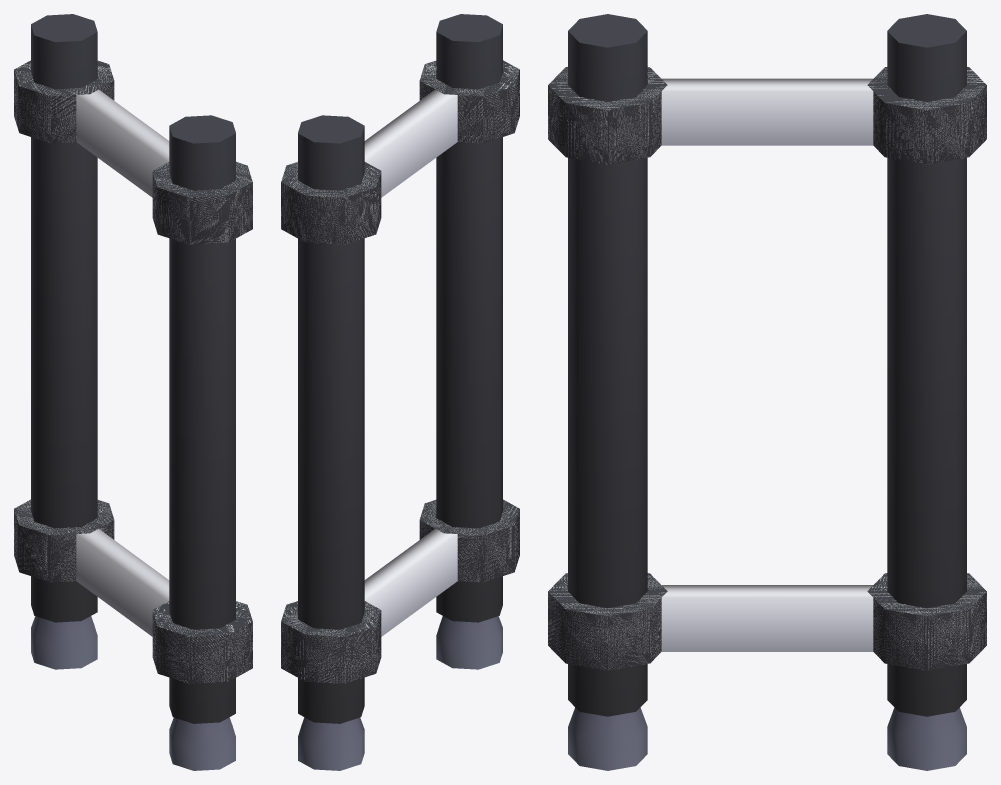
File: structure-yellow-tall.obj
3 views of the same model, side by side, from view 1: azimuth 30°, elevation 25°; view 2: azimuth 150°, elevation 25°; view 3: azimuth 270°, elevation 25° (orthographic). The views are drawn at different scales.
Parts seen in each view (by area): view 1: structure-yellow-tall; view 2: structure-yellow-tall; view 3: structure-yellow-tall.
Part boxes in pixels (<box>): structure-yellow-tall: <box>14,14,252,770</box>; structure-yellow-tall: <box>281,14,519,770</box>; structure-yellow-tall: <box>548,14,986,770</box>.
Bounding box in the file's own units: 0.3 × 2 × 1.1.
